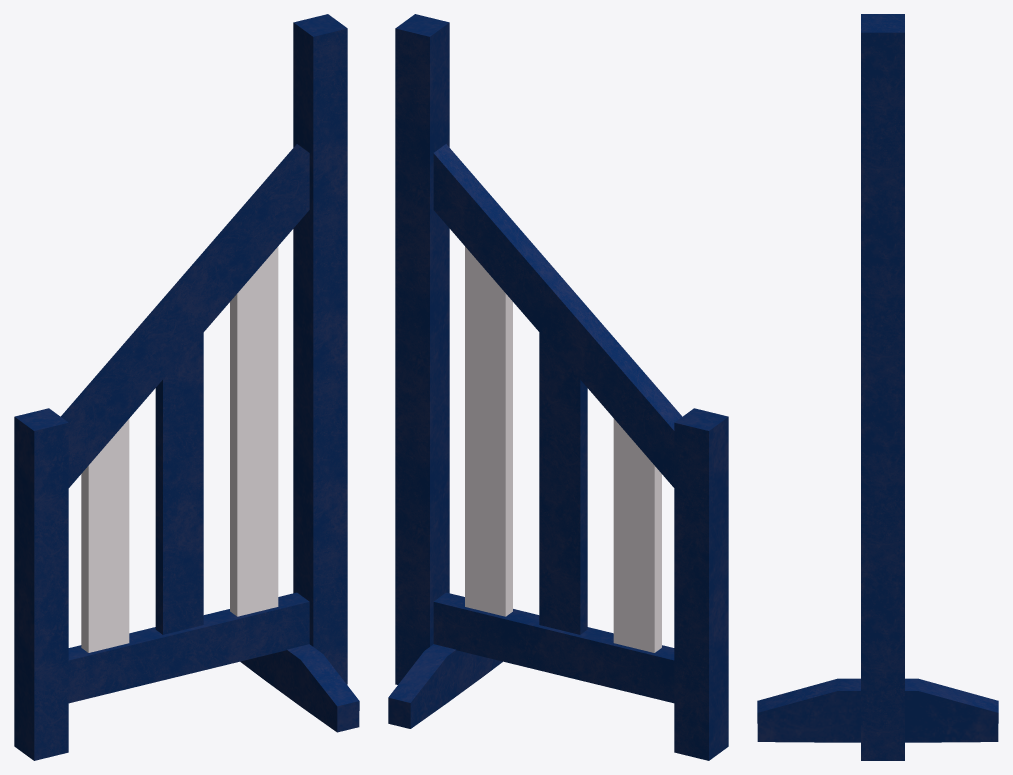
The model's file is stand01.fbx.
The picture shows the model from 3 angles, left to right: view 1: azimuth 30°, elevation 25°; view 2: azimuth 150°, elevation 25°; view 3: azimuth 270°, elevation 25°; orthographic projection. The views are drawn at different scales.
Parts seen in each view (by area): view 1: stand01; view 2: stand01; view 3: stand01.
Part boxes in pixels (x1,y1,x2,y2): stand01: (14,14,359,760); stand01: (388,14,728,760); stand01: (757,14,998,760).
Bounding box in the file's own units: 50 × 100 × 30.
